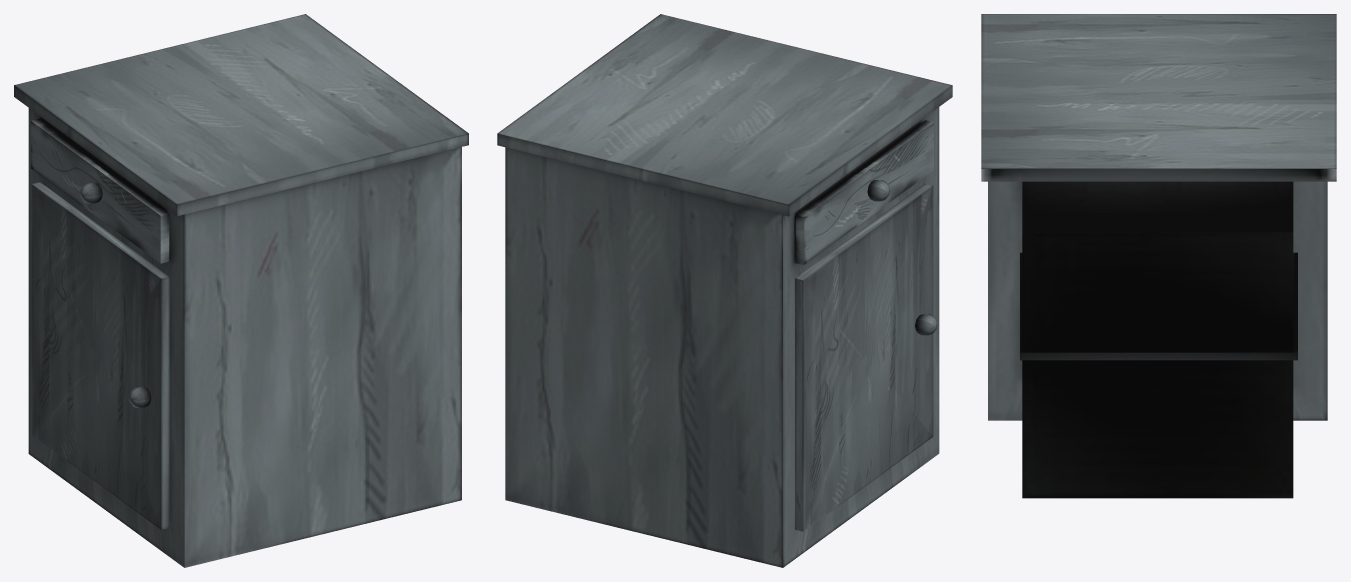
The model's file is BedSideTable.fbx.
3 renders of one model, left to right at view 1: azimuth 30°, elevation 25°; view 2: azimuth 150°, elevation 25°; view 3: azimuth 270°, elevation 25°, orthographic. The views are drawn at different scales.
Parts seen in each view (by area): view 1: chevet, porte; view 2: chevet, porte; view 3: chevet.
Boxes of the visible parts, x1,y1,x2,y2 form: chevet: [14, 14, 468, 567]; porte: [31, 182, 169, 529]; chevet: [497, 14, 952, 567]; porte: [795, 183, 937, 531]; chevet: [981, 14, 1336, 498].
Bounding box in the file's own units: 64.53 × 73.86 × 59.35.
